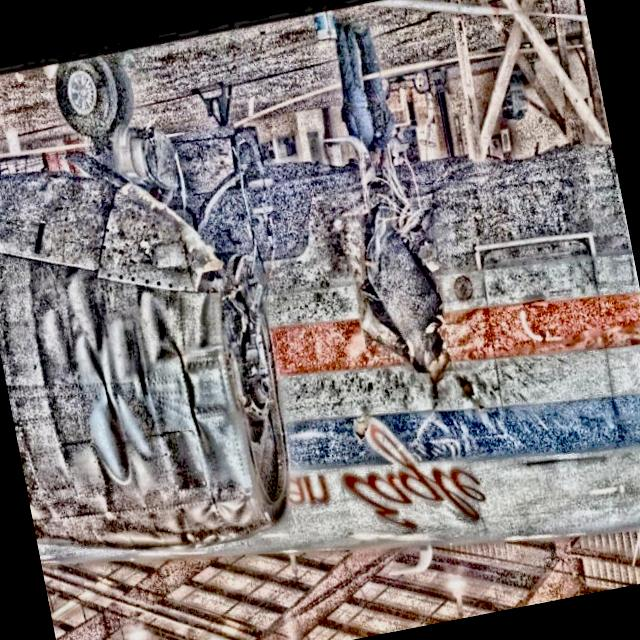dent: (30, 251, 217, 515)
